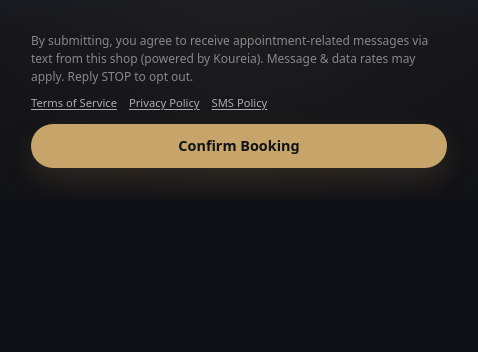
Scenario: RequestRenderer after-hours submit flow › creates a hold and shows the booking success state when submission succeeds
Click the button "Confirm Booking" at (239, 146), box x1=31 y1=124 x2=447 y2=168
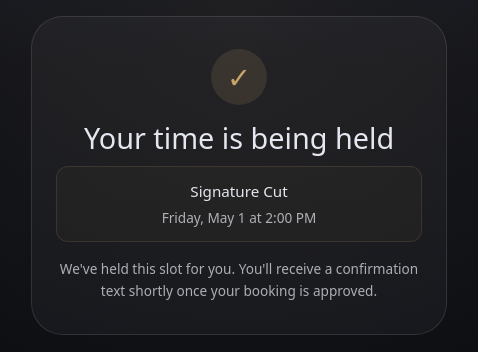
Expected: the heading "Your time is being held" is shown, x1=84 y1=118 x2=394 y2=157
